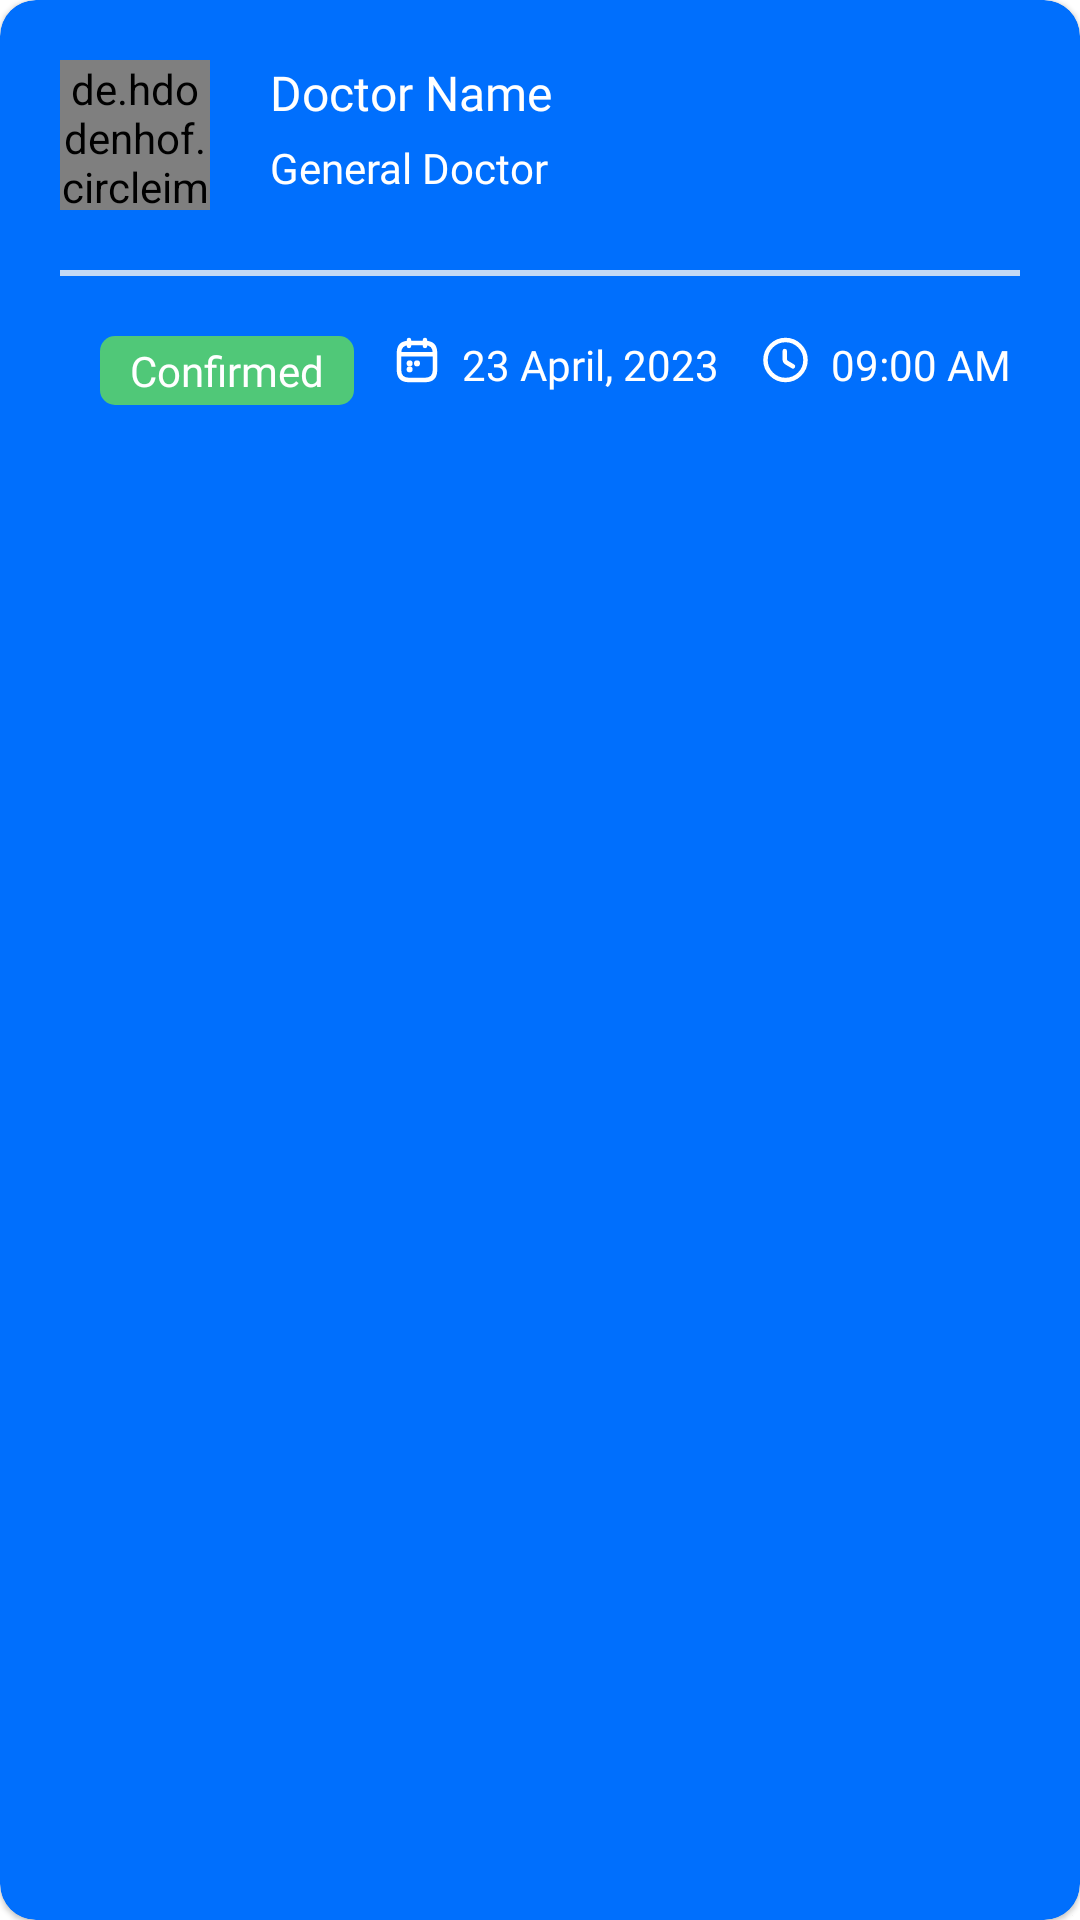

Named icons in this screenshot (1080 × 1920) and their centers, (x,y):
calendar: (417,360)
clock: (785,360)
